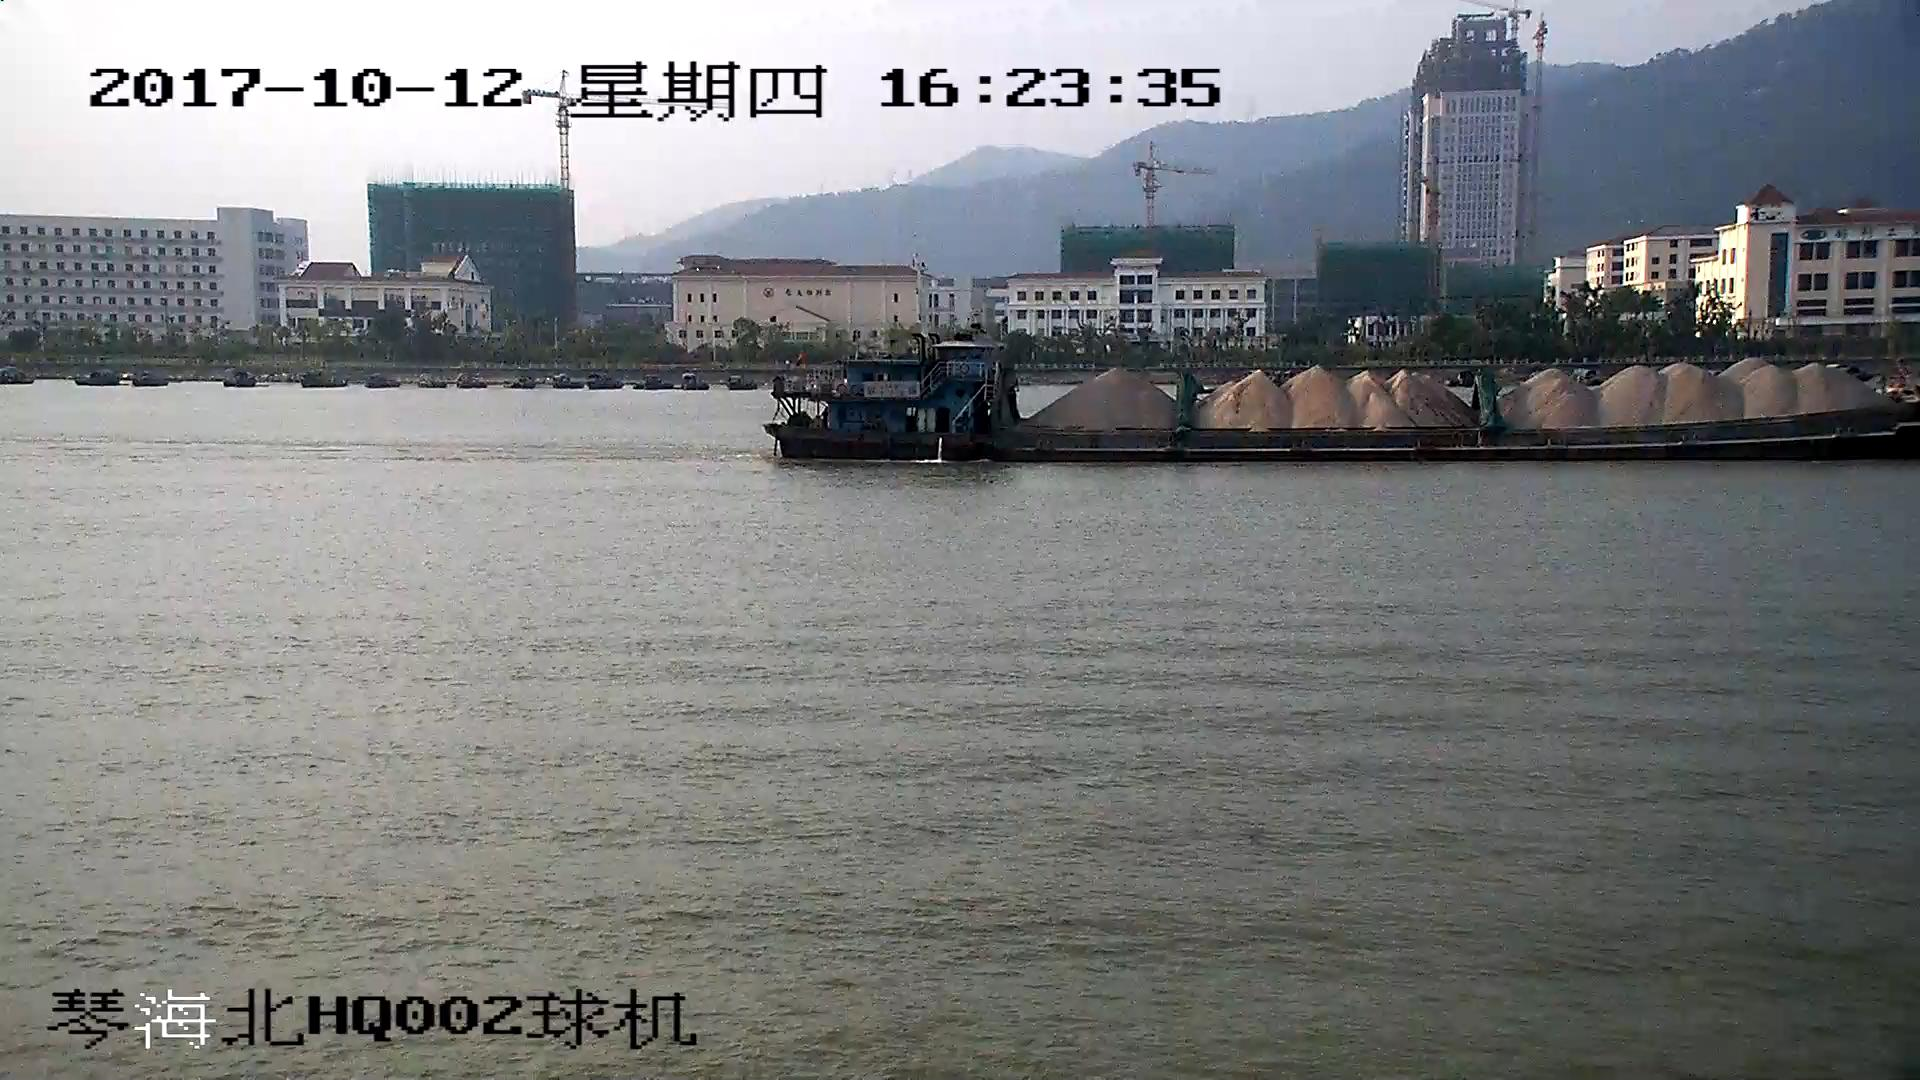ore carrier: (763, 341, 1920, 464)
